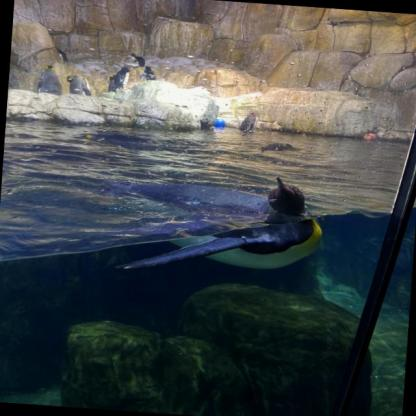penguin: (139, 167, 327, 280), (69, 126, 203, 161), (30, 64, 67, 99), (65, 74, 94, 98), (136, 64, 159, 84), (103, 70, 121, 95), (116, 65, 130, 92), (131, 52, 150, 70), (8, 67, 13, 90)
